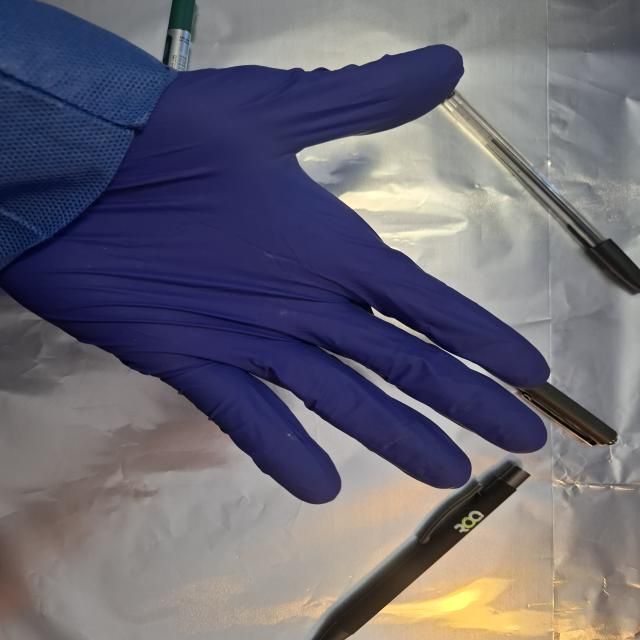glove_on: (5, 40, 554, 502)
